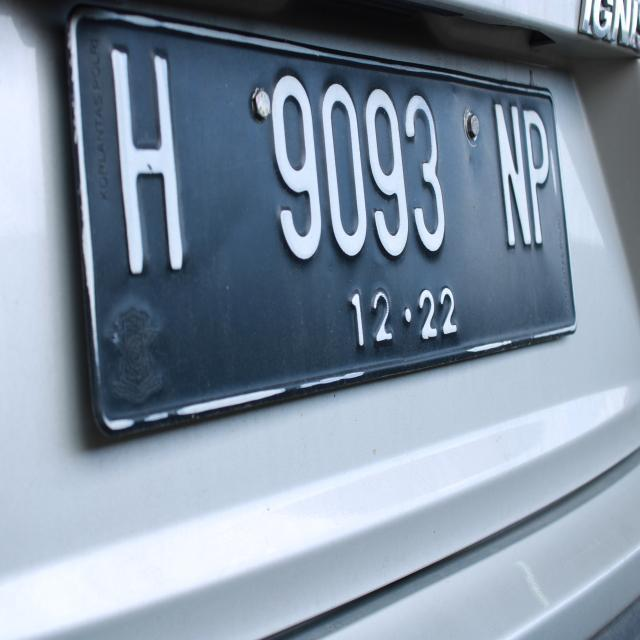0: (320, 71, 375, 265)
3: (402, 86, 454, 264)
9: (256, 64, 327, 280), (363, 81, 411, 263)
H: (92, 22, 192, 294)
N: (488, 87, 530, 260)
P: (518, 92, 556, 262)
